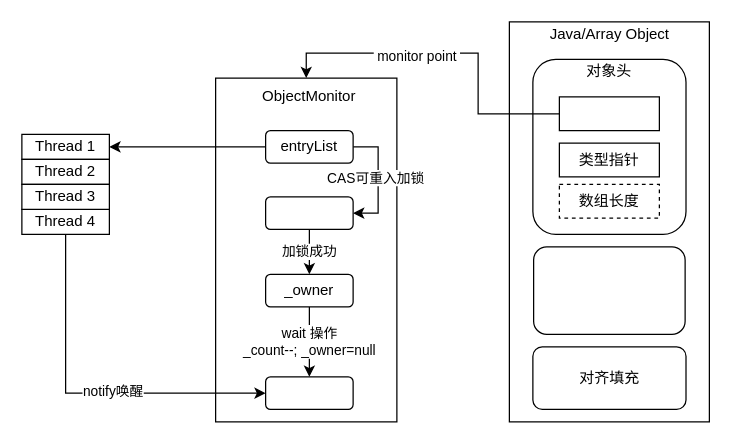
Some shapes in this 731 by 444 pixel diagram are drawn without their labels. The shapes that lost their labels are listed below. From the top down, each one's centre as x and y in pixels, then its label:
At pixel 608 113: "Mark World".
At pixel 308 212: "_count".
At pixel 608 290: "对象数据".
At pixel 308 392: "waitSet".
